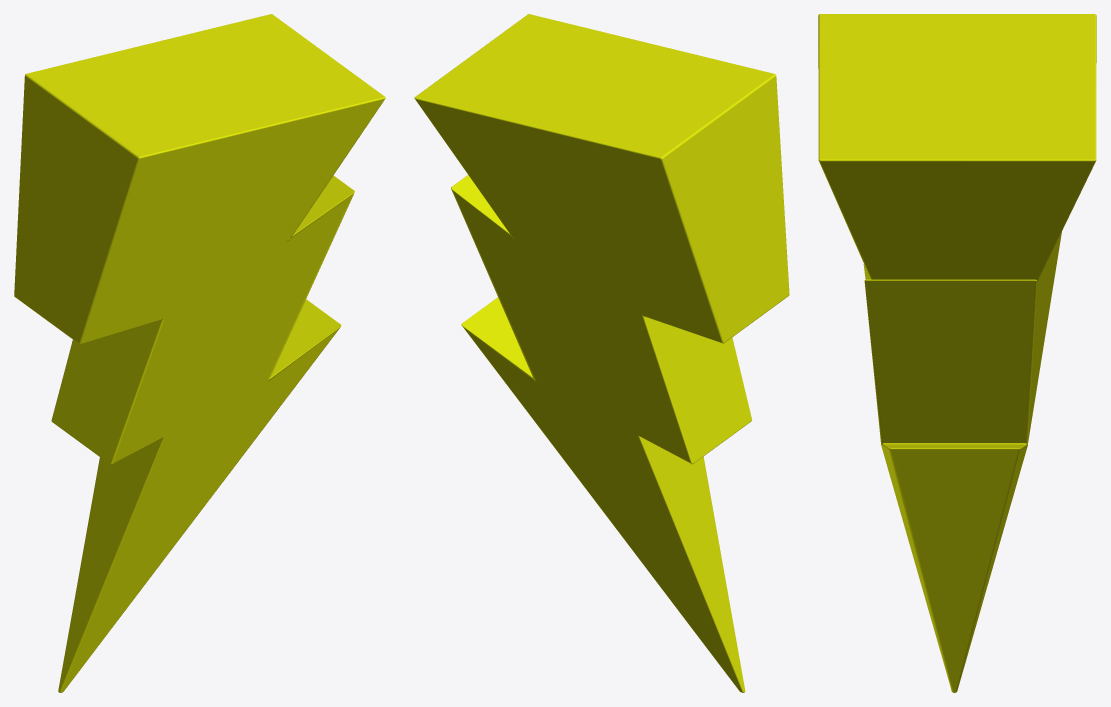
Rendered from Lightning Bolt.fbx.
3 views of the same model, side by side, from view 1: azimuth 30°, elevation 25°; view 2: azimuth 150°, elevation 25°; view 3: azimuth 270°, elevation 25° (orthographic). The views are drawn at different scales.
Visible parts, largest first — view 1: pCube1; view 2: pCube1; view 3: pCube1.
Boxes of the visible parts, bbox=[...] form: pCube1: bbox=[14, 14, 385, 692]; pCube1: bbox=[414, 14, 789, 692]; pCube1: bbox=[818, 14, 1096, 692].
Size of the model in its own units: 4.2 by 8.08 by 2.94.
